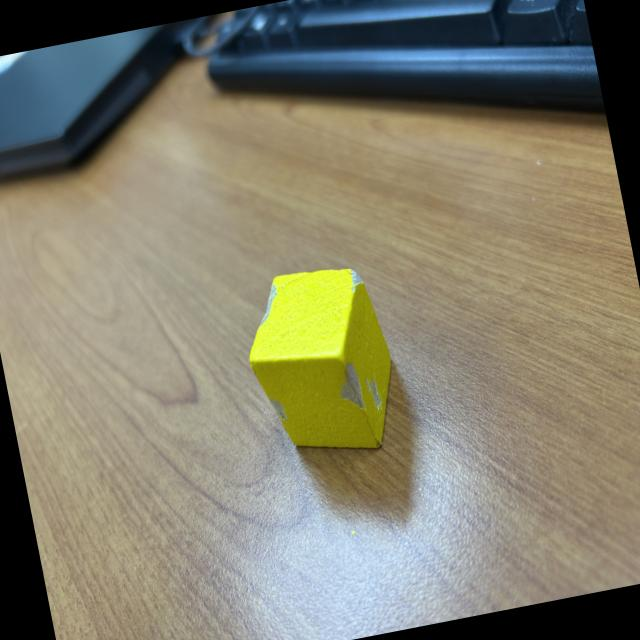broken: (234, 256, 408, 470)
